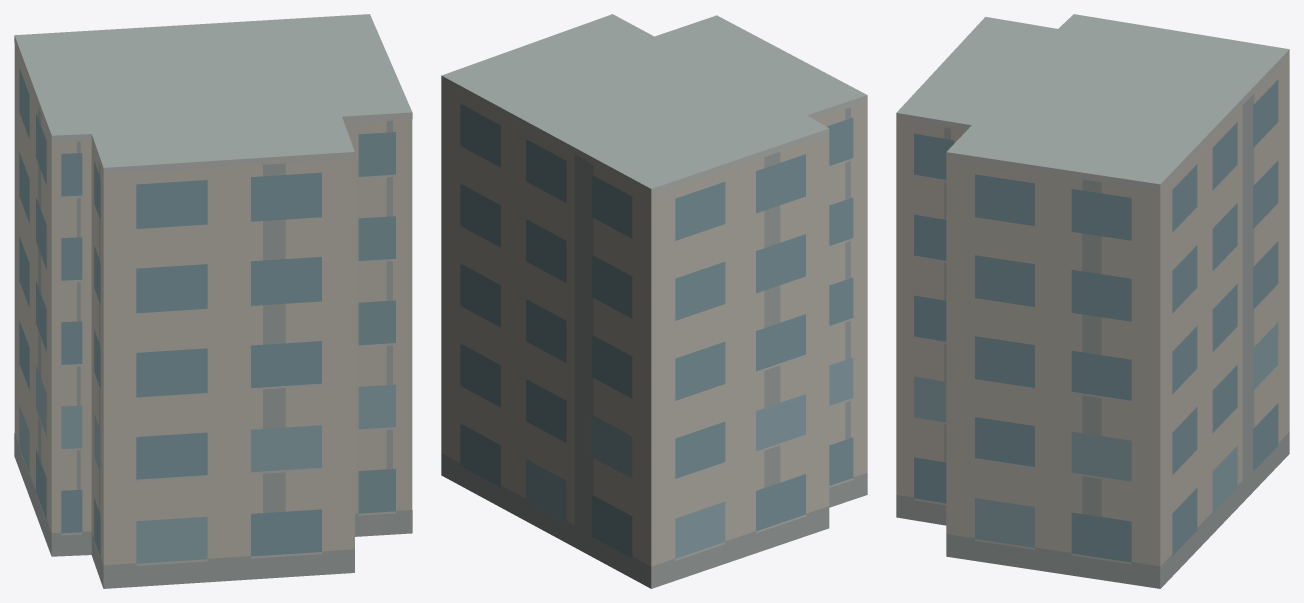
Rendered from survey-upis-32868115.glb.
3 renders of one model, left to right at view 1: azimuth 30°, elevation 25°; view 2: azimuth 150°, elevation 25°; view 3: azimuth 270°, elevation 25°, orthographic. The views are drawn at different scales.
Visible parts, largest first — view 1: survey-upis-32868115.tmp; view 2: survey-upis-32868115.tmp; view 3: survey-upis-32868115.tmp.
Boxes of the visible parts, x1,y1,x2,y2 form: survey-upis-32868115.tmp: (14,14,412,588); survey-upis-32868115.tmp: (441,14,867,588); survey-upis-32868115.tmp: (896,14,1289,588).
Size of the model in its own units: 13.1 by 14.5 by 12.79.
